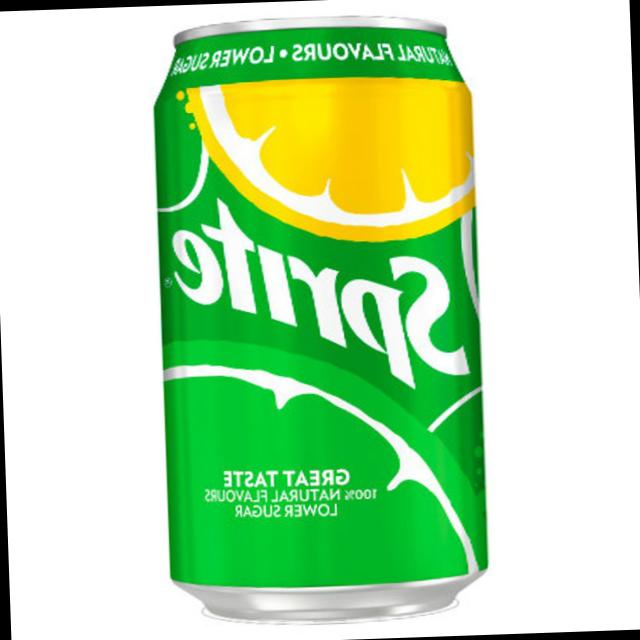sprite: (116, 6, 512, 618)
